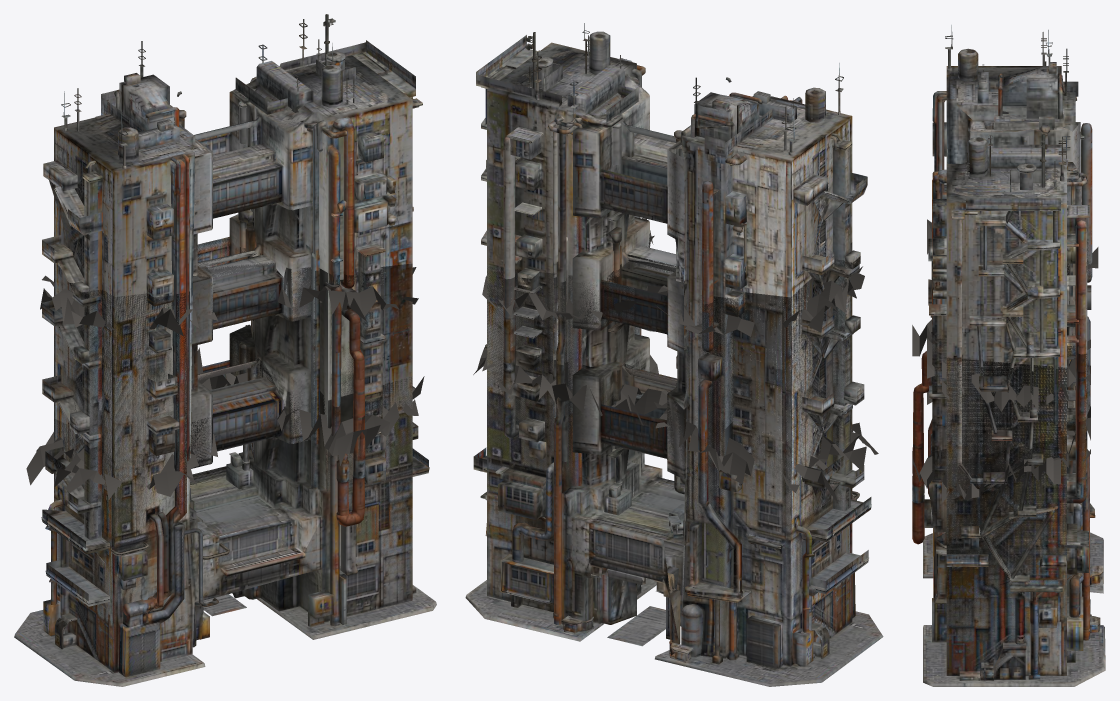
File: toa_cao_2.glb
3 renders of one model, left to right at view 1: azimuth 30°, elevation 25°; view 2: azimuth 150°, elevation 25°; view 3: azimuth 270°, elevation 25°, orthographic. The views are drawn at different scales.
Parts seen in each view (by area): view 1: nguyen, do_1, do_2; view 2: nguyen, do_1, do_2; view 3: nguyen, do_1, do_2.
Boxes of the visible parts, left/top/right/bottom form: nguyen: left=42, top=14, right=422, bottom=670; do_1: left=14, top=324, right=436, bottom=686; do_2: left=40, top=239, right=418, bottom=672; nguyen: left=476, top=23, right=867, bottom=666; do_1: left=465, top=341, right=883, bottom=686; do_2: left=482, top=217, right=864, bottom=666; nguyen: left=928, top=25, right=1092, bottom=675; do_1: left=912, top=360, right=1105, bottom=686; do_2: left=912, top=219, right=1098, bottom=675.
Size of the model in its own units: 51.78 by 80 by 26.22.
2 materials, 1 textured.
